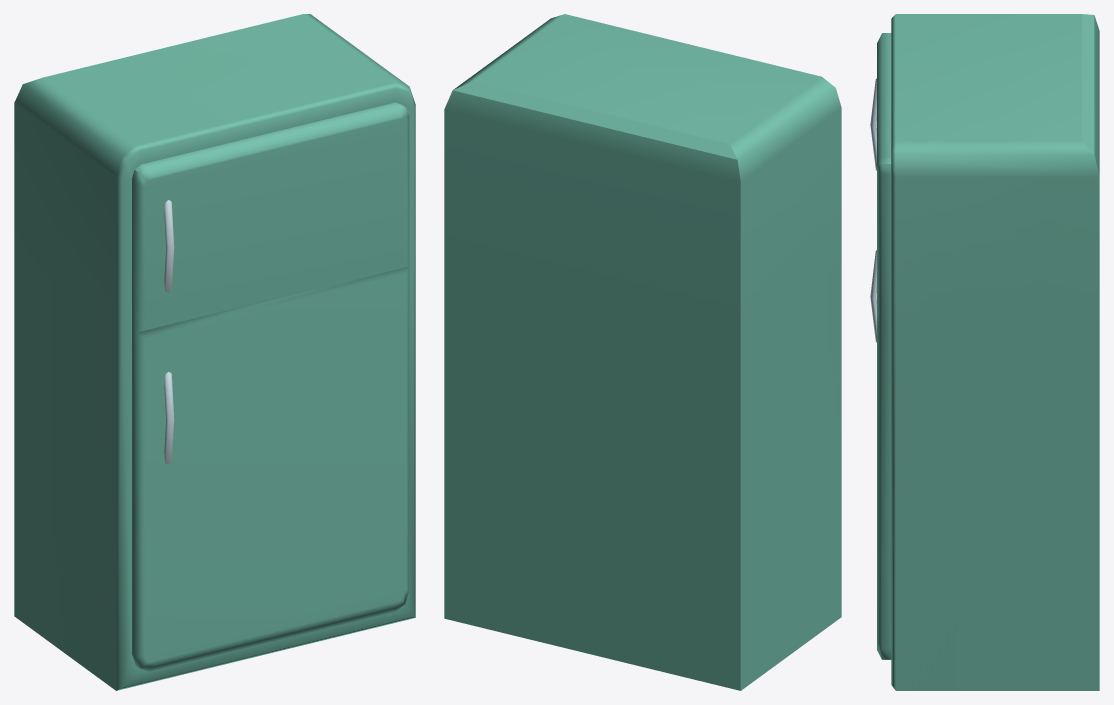
The model's file is frigorifero.fbx.
3 renders of one model, left to right at view 1: azimuth 30°, elevation 25°; view 2: azimuth 150°, elevation 25°; view 3: azimuth 270°, elevation 25°, orthographic.
Parts seen in each view (by area): view 1: Frigo; view 2: Frigo; view 3: Frigo.
Boxes of the visible parts, x1=… form: Frigo: x1=14, y1=14, x2=415, y2=690; Frigo: x1=444, y1=14, x2=841, y2=690; Frigo: x1=870, y1=14, x2=1099, y2=690.
Bounding box in the file's own units: 2.02 × 3.48 × 1.34.
